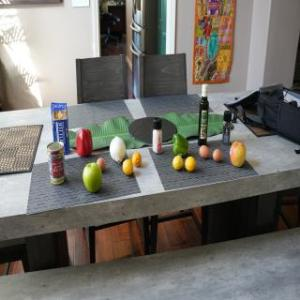bell_pepper: (76, 128, 94, 156), (171, 134, 189, 156)
egg: (96, 157, 106, 173), (212, 148, 222, 164), (198, 143, 208, 158)
onion: (109, 136, 126, 164)
